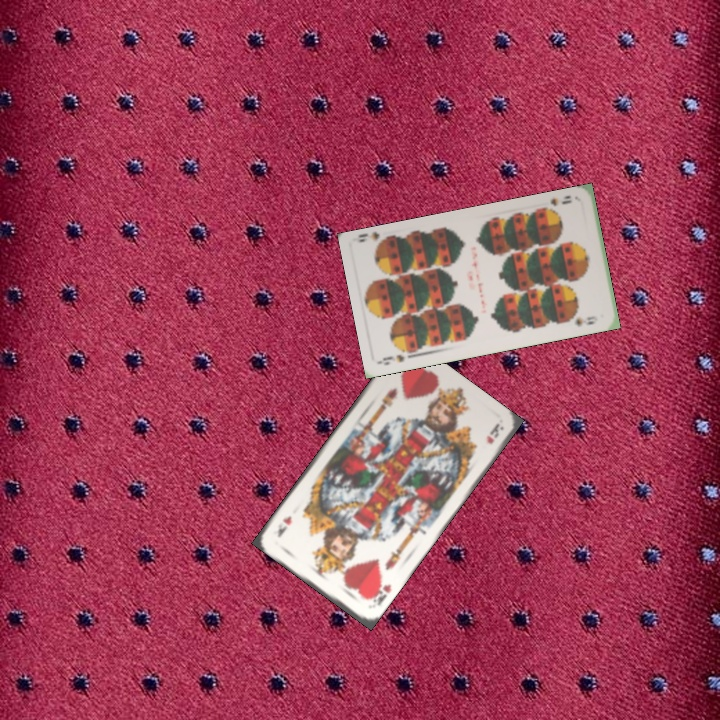HK: (364, 576, 394, 608)
S9: (377, 350, 418, 368), (539, 194, 574, 214)
